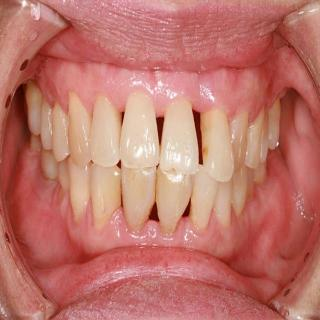LL1BC_healthy: (232, 174, 246, 216)
LLCI_healthy: (156, 173, 192, 230)
LLC_healthy: (214, 182, 232, 224)
LLLI_healthy: (192, 167, 214, 226)
LR1BC_healthy: (58, 160, 69, 190)
LR1M_healthy: (28, 133, 41, 151)
LR2BC_healthy: (41, 149, 59, 178)
LRCI_healthy: (120, 168, 156, 231)
LRC_healthy: (69, 165, 90, 221)
LRLI_healthy: (90, 167, 121, 227)
UL1BC_healthy: (247, 109, 261, 170)
UL1M_healthy: (269, 99, 281, 150)
UL2BC_healthy: (262, 113, 270, 162)
ULCI_healthy: (161, 101, 199, 176)
ULC_healthy: (230, 113, 247, 175)
ULLI_mdecay: (200, 108, 233, 182)
UR1BC_healthy: (51, 104, 69, 162)
UR1M_healthy: (25, 82, 42, 134)
UR2BC_healthy: (40, 102, 55, 150)
URCI_healthy: (121, 93, 161, 167)
URC_healthy: (67, 93, 92, 165)
URLI_healthy: (91, 96, 122, 167)
